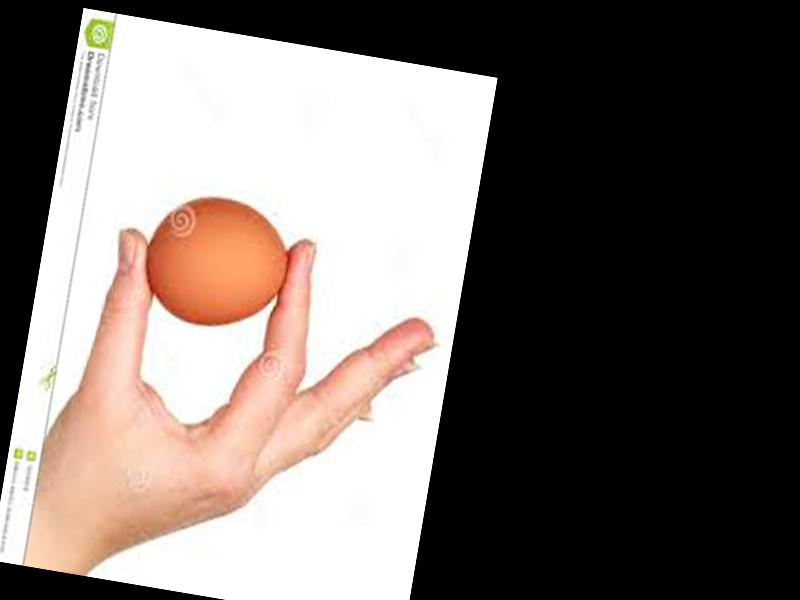Eggs: (135, 185, 297, 340)
